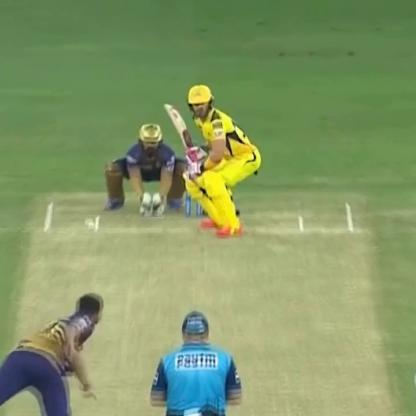ball: (75, 212, 101, 234)
bat: (160, 97, 212, 177)
pitch: (4, 193, 412, 415)
